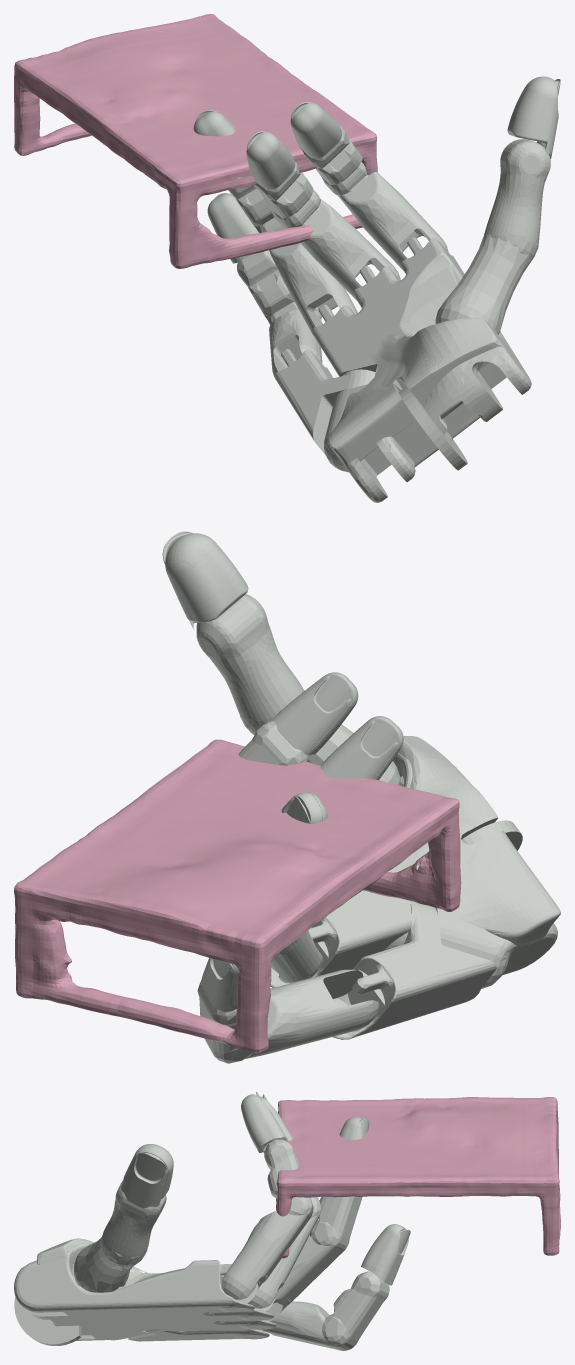
The picture shows the model from 3 angles, top to bottom: view 1: azimuth 30°, elevation 25°; view 2: azimuth 150°, elevation 25°; view 3: azimuth 270°, elevation 25°; orthographic projection. The views are drawn at different scales.
Parts seen in each view (by area): view 1: hand, world; view 2: world, hand; view 3: hand, world.
Boxes of the visible parts, left/top/right/bottom form: hand: left=193, top=76, right=560, bottom=502; world: left=14, top=14, right=377, bottom=268; world: left=14, top=739, right=461, bottom=1053; hand: left=162, top=531, right=560, bottom=1063; hand: left=14, top=1092, right=410, bottom=1350; world: left=276, top=1097, right=560, bottom=1258.
Bounding box in the file's own units: 0.1422 × 0.1451 × 0.2535.
